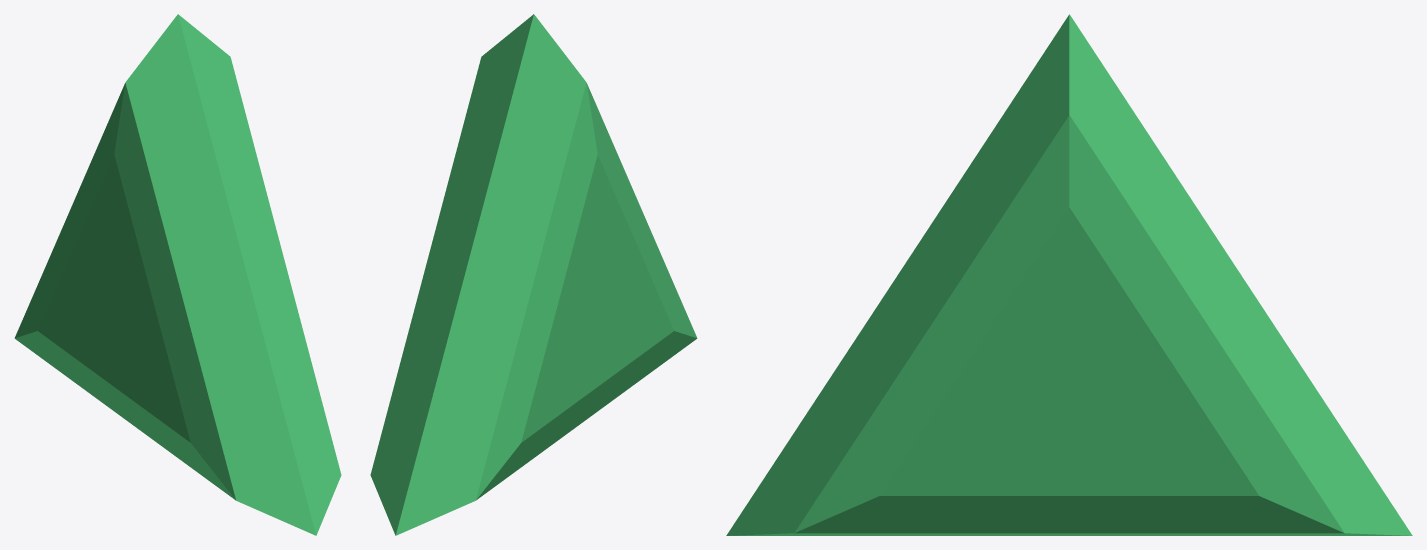
The model's file is Emerald.fbx.
The picture shows the model from 3 angles, left to right: view 1: azimuth 30°, elevation 25°; view 2: azimuth 150°, elevation 25°; view 3: azimuth 270°, elevation 25°; orthographic projection. The views are drawn at different scales.
Parts seen in each view (by area): view 1: Emerald; view 2: Emerald; view 3: Emerald.
Boxes of the visible parts, x1,y1,x2,y2 form: Emerald: (14,14,341,535); Emerald: (370,14,697,535); Emerald: (726,14,1412,535).
Bounding box in the file's own units: 13.78 × 43.46 × 51.82.
